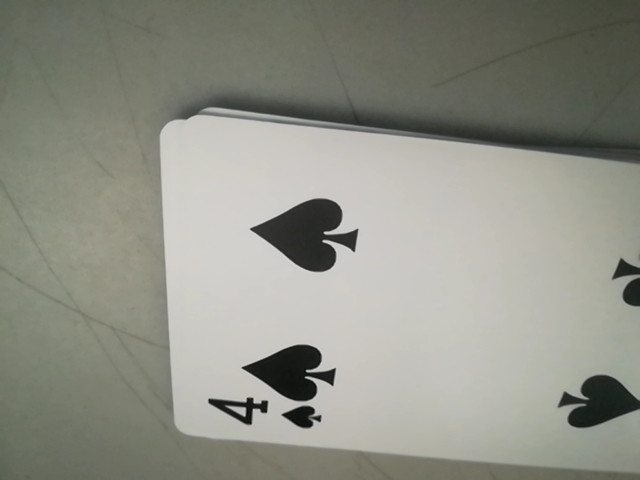ht 4: (197, 391, 330, 439)
